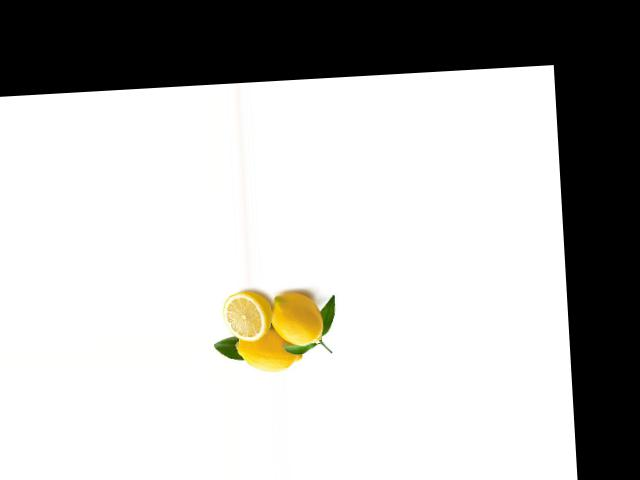lemon: (237, 321, 306, 376)
